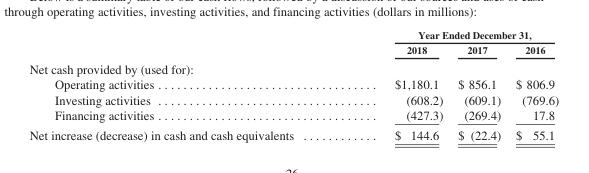table: (28, 28, 558, 141)
table column: (28, 28, 343, 141), (343, 28, 449, 141), (449, 28, 507, 141), (507, 28, 558, 141)
table column header: (28, 28, 558, 58)
table projected row header: (28, 58, 558, 76)
table row: (28, 58, 558, 76), (28, 106, 558, 124), (28, 41, 558, 58), (28, 124, 558, 141), (28, 76, 558, 91), (28, 91, 558, 106), (28, 28, 558, 41)
table spanning cell: (343, 28, 558, 41)
